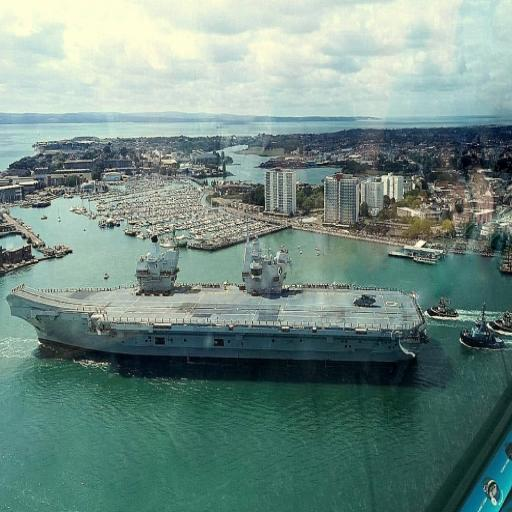Portanaves: (2, 220, 434, 379)
